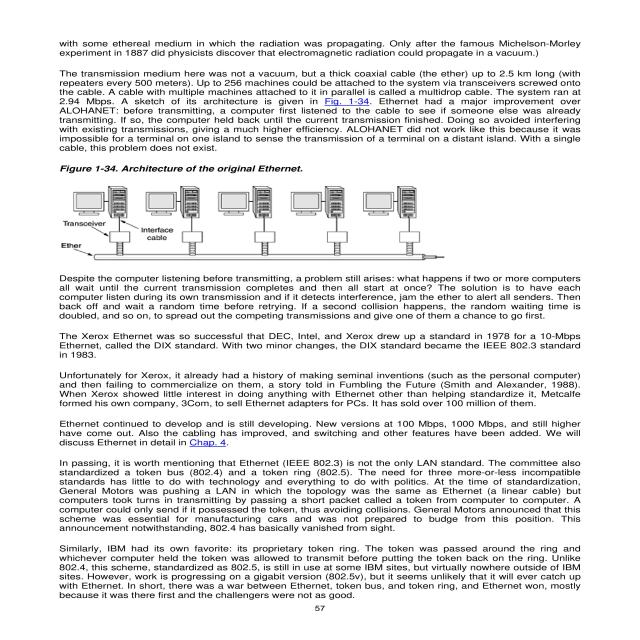diagram: (49, 164, 481, 268), (49, 163, 455, 269)
